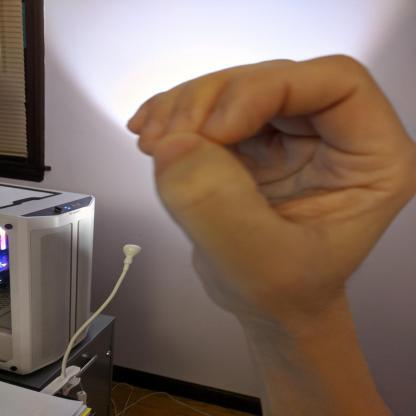O: (127, 54, 415, 332)
